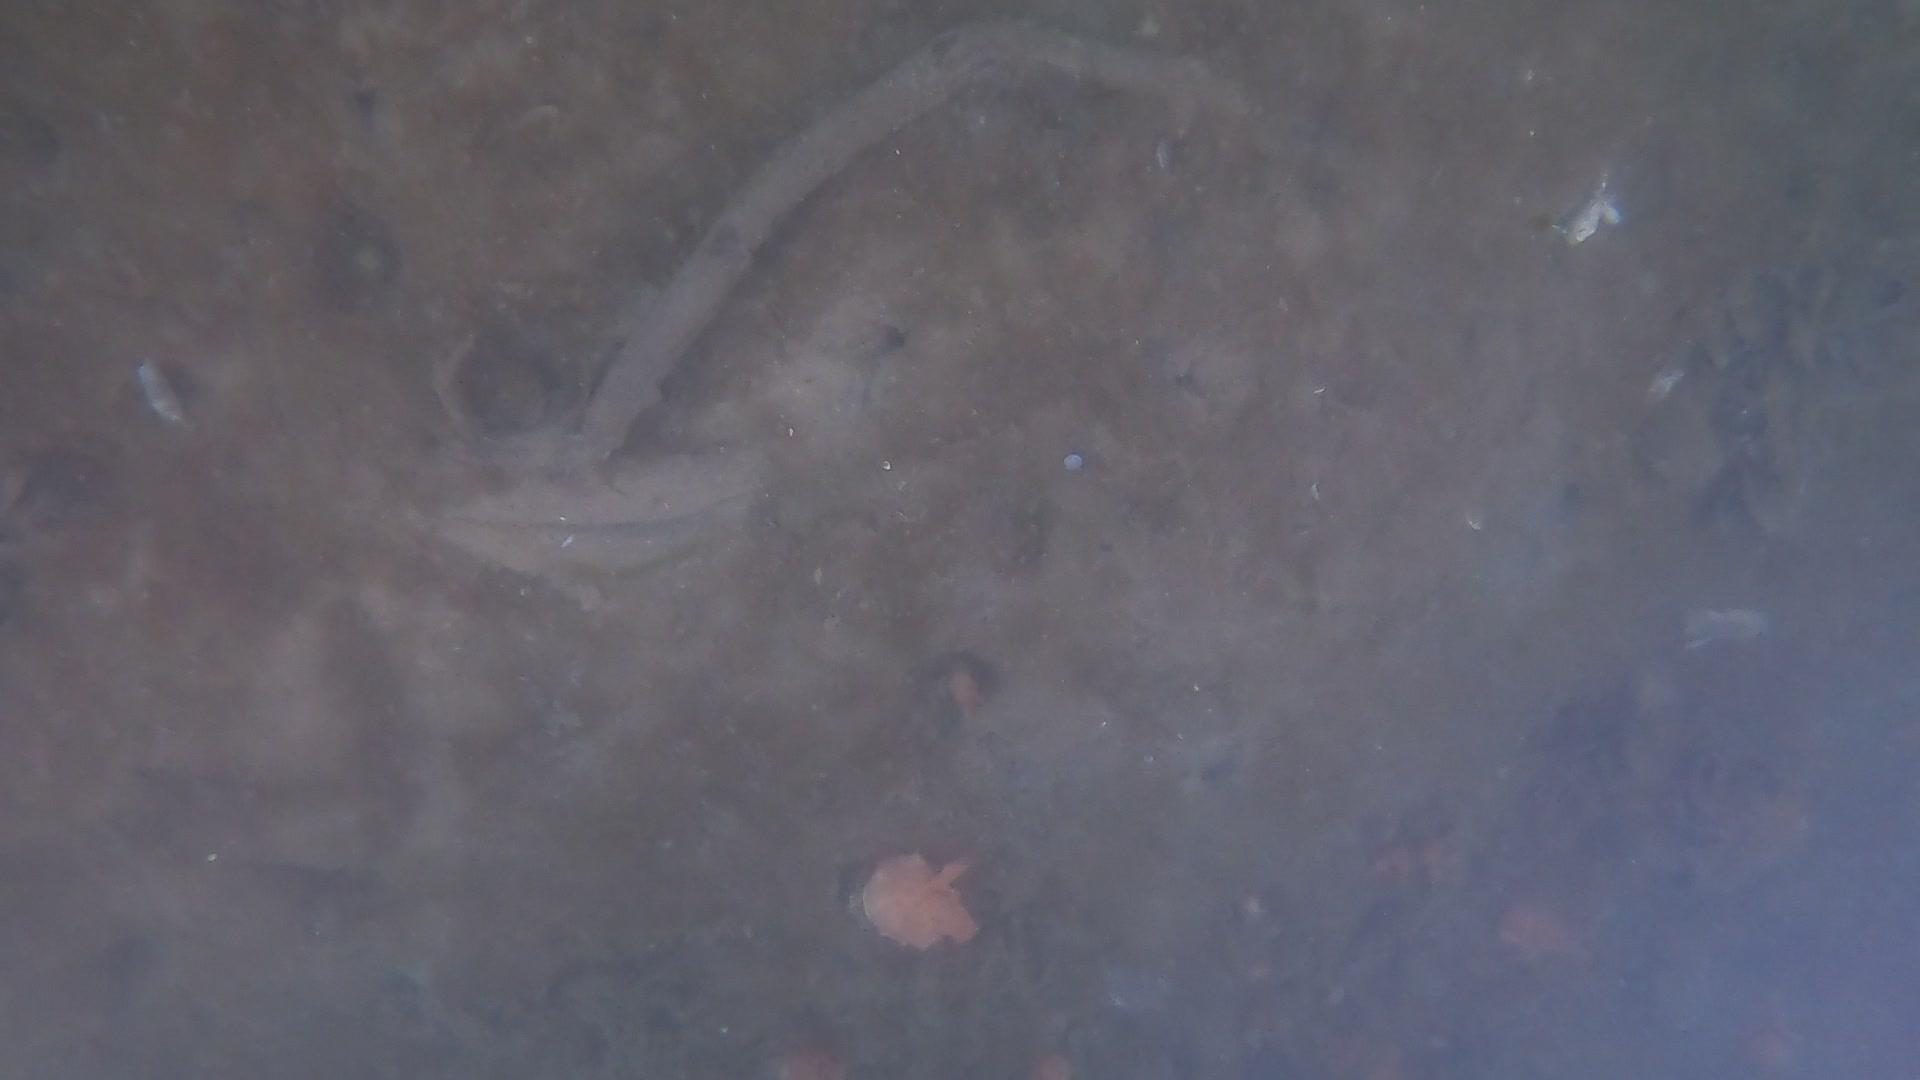wood: (560, 24, 1317, 472)
